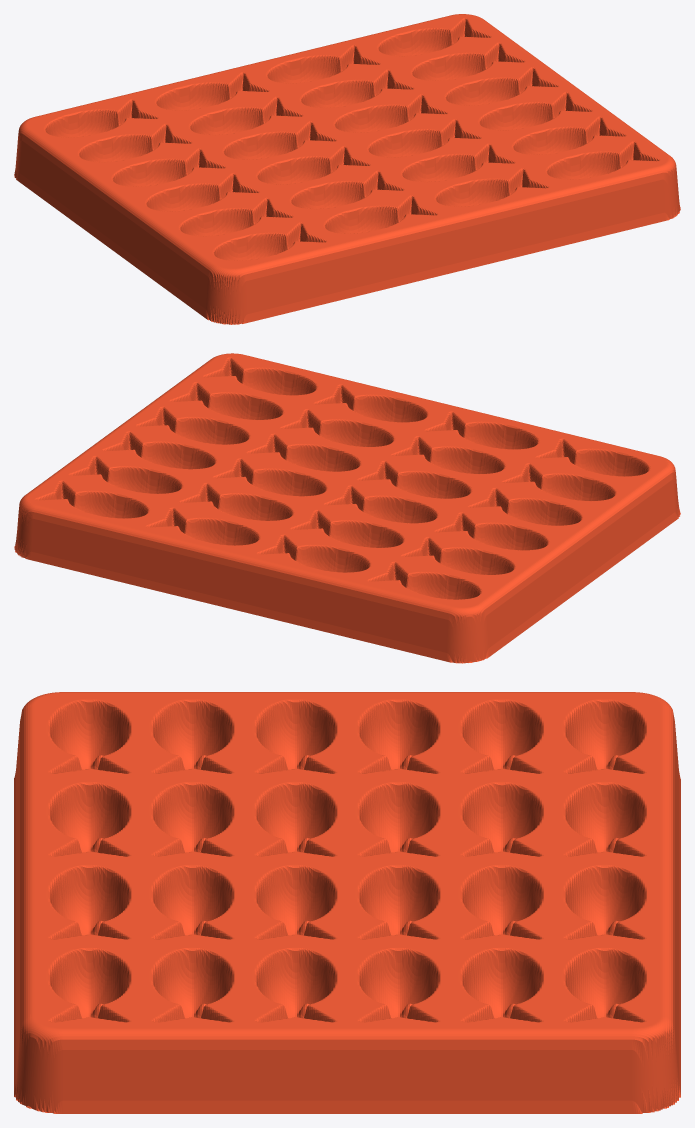
The model's file is mold.glb.
The picture shows the model from 3 angles, top to bottom: view 1: azimuth 30°, elevation 25°; view 2: azimuth 150°, elevation 25°; view 3: azimuth 270°, elevation 25°; orthographic projection. The views are drawn at different scales.
Parts seen in each view (by area): view 1: geometry_0; view 2: geometry_0; view 3: geometry_0.
Boxes of the visible parts, left/top/right/bottom form: geometry_0: left=14, top=14, right=680, bottom=324; geometry_0: left=14, top=353, right=680, bottom=663; geometry_0: left=14, top=692, right=680, bottom=1113.
Bounding box in the file's own units: 0.1561 × 0.0159 × 0.1251.
